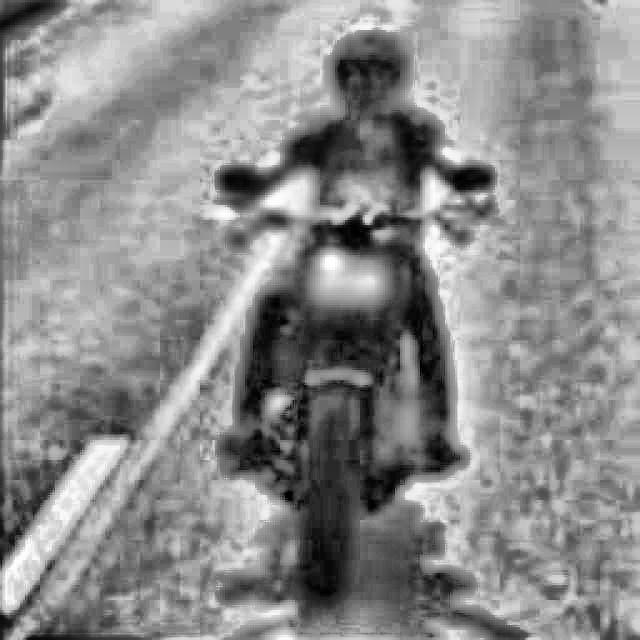motorcycle: (204, 153, 496, 587)
